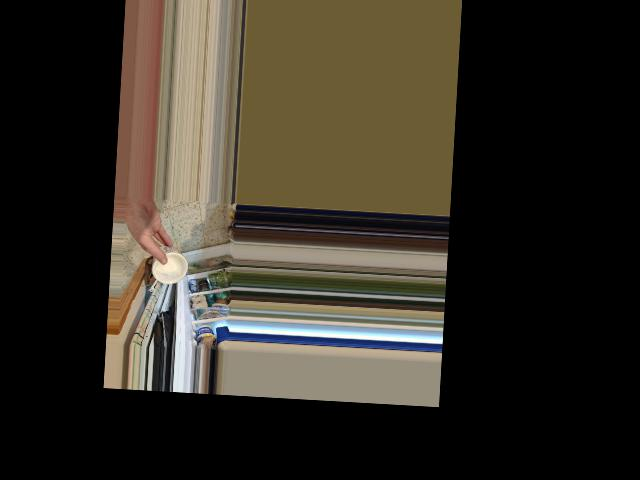cotage: (149, 243, 187, 289)
